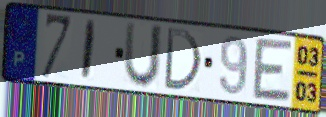7: (40, 12, 75, 81)
9: (217, 34, 248, 98)
D: (161, 25, 204, 94)
E: (251, 36, 295, 105)
I: (79, 18, 99, 83)
U: (121, 19, 166, 91)
